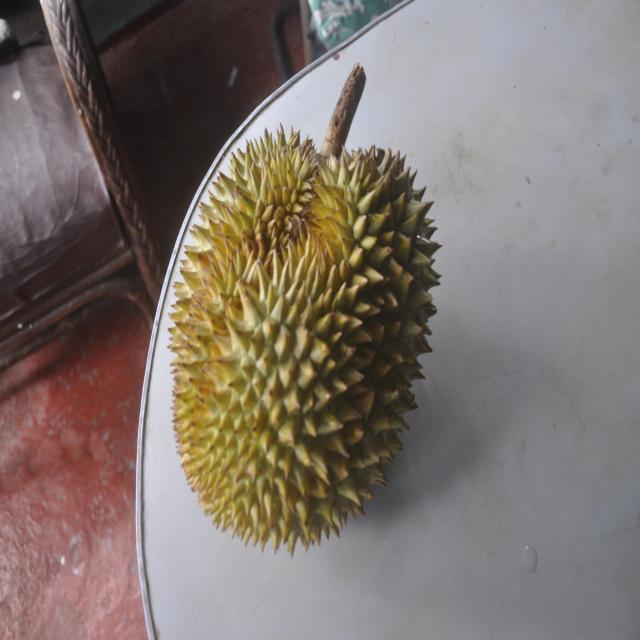mature: (164, 108, 425, 557)
